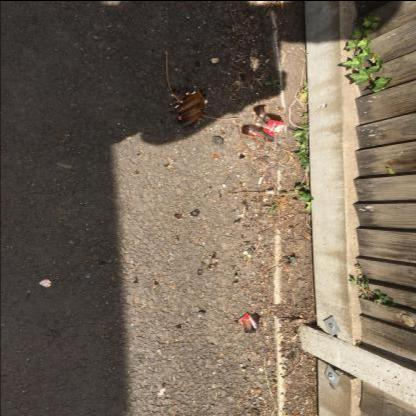Broken glass: (169, 87, 207, 129), (242, 103, 284, 140), (242, 310, 260, 332), (211, 251, 218, 267), (224, 22, 234, 33), (169, 86, 181, 94), (189, 207, 200, 215), (178, 87, 190, 94), (51, 329, 58, 336), (174, 212, 182, 218), (197, 269, 203, 275), (240, 152, 245, 158), (175, 324, 182, 328), (133, 275, 137, 282), (264, 350, 270, 354), (198, 309, 206, 312), (213, 153, 219, 157), (162, 381, 166, 387), (176, 235, 180, 240), (136, 168, 140, 173), (232, 279, 238, 282), (209, 262, 212, 268), (154, 280, 158, 284), (234, 271, 238, 274), (201, 262, 205, 264), (242, 234, 244, 238)
Cigarette: (258, 176, 262, 184)
Unlabeled litter: (38, 278, 50, 286)
